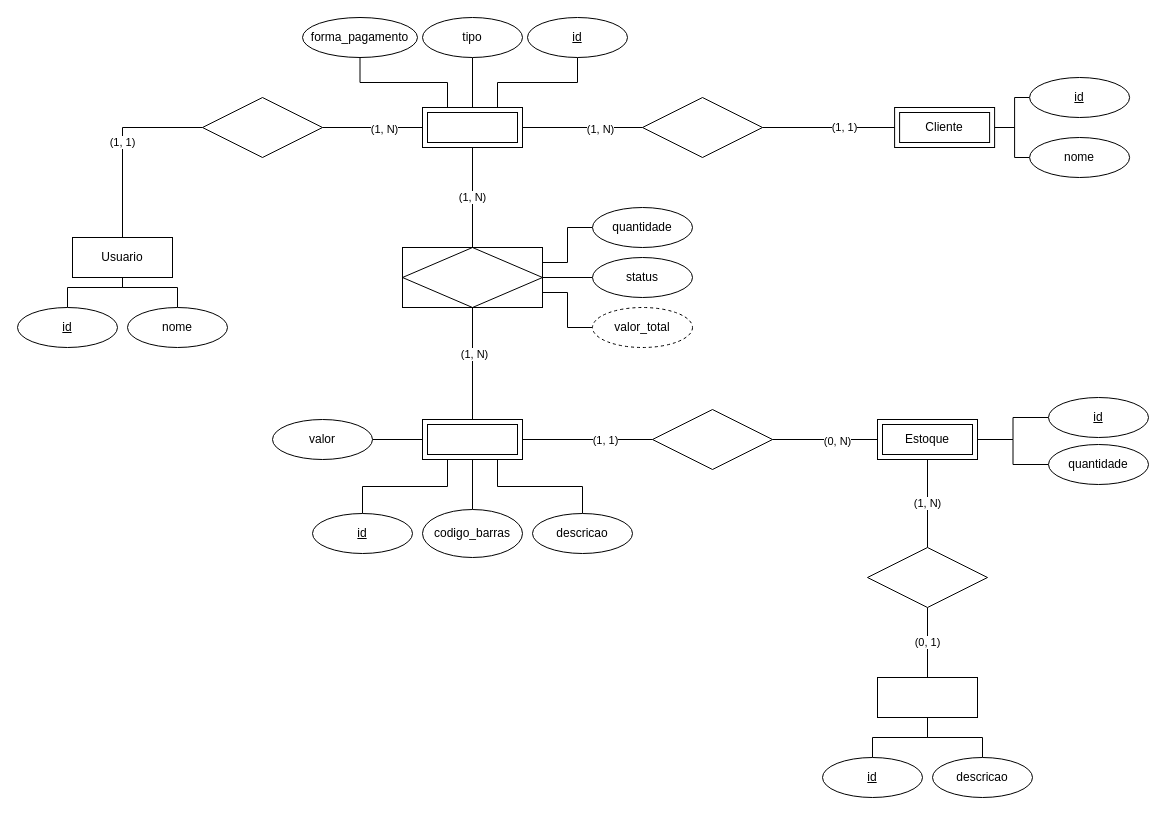
Some shapes in this 1166 by 815 pixel diagram are drawn without their labels. The shapes that lost their labels are listed below. From the top down, each one's centre as x and y in pixels, then its label:
At (262,127): "Faz".
At (472,127): "Pedido".
At (702,127): "Contem".
At (472,277): "ItemPedido Contem".
At (472,439): "Produto".
At (712,439): "Existe".
At (927,577): "Pertence".
At (927,697): "Filial".
